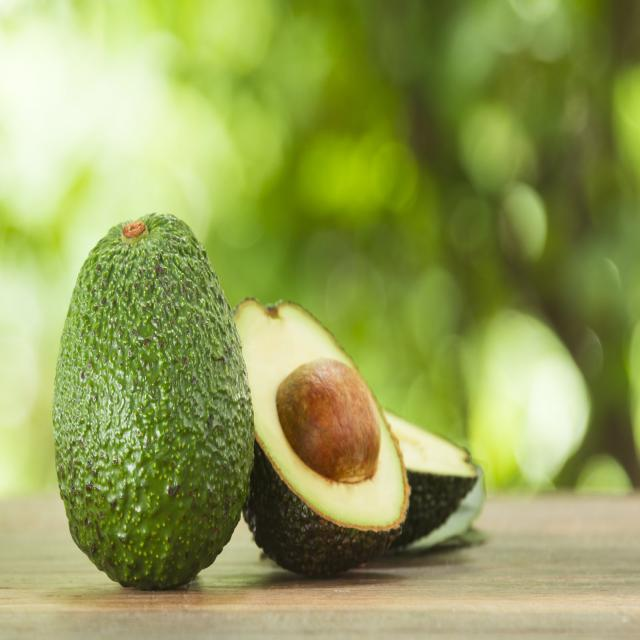aguacate: (52, 209, 257, 615), (222, 285, 412, 581)
